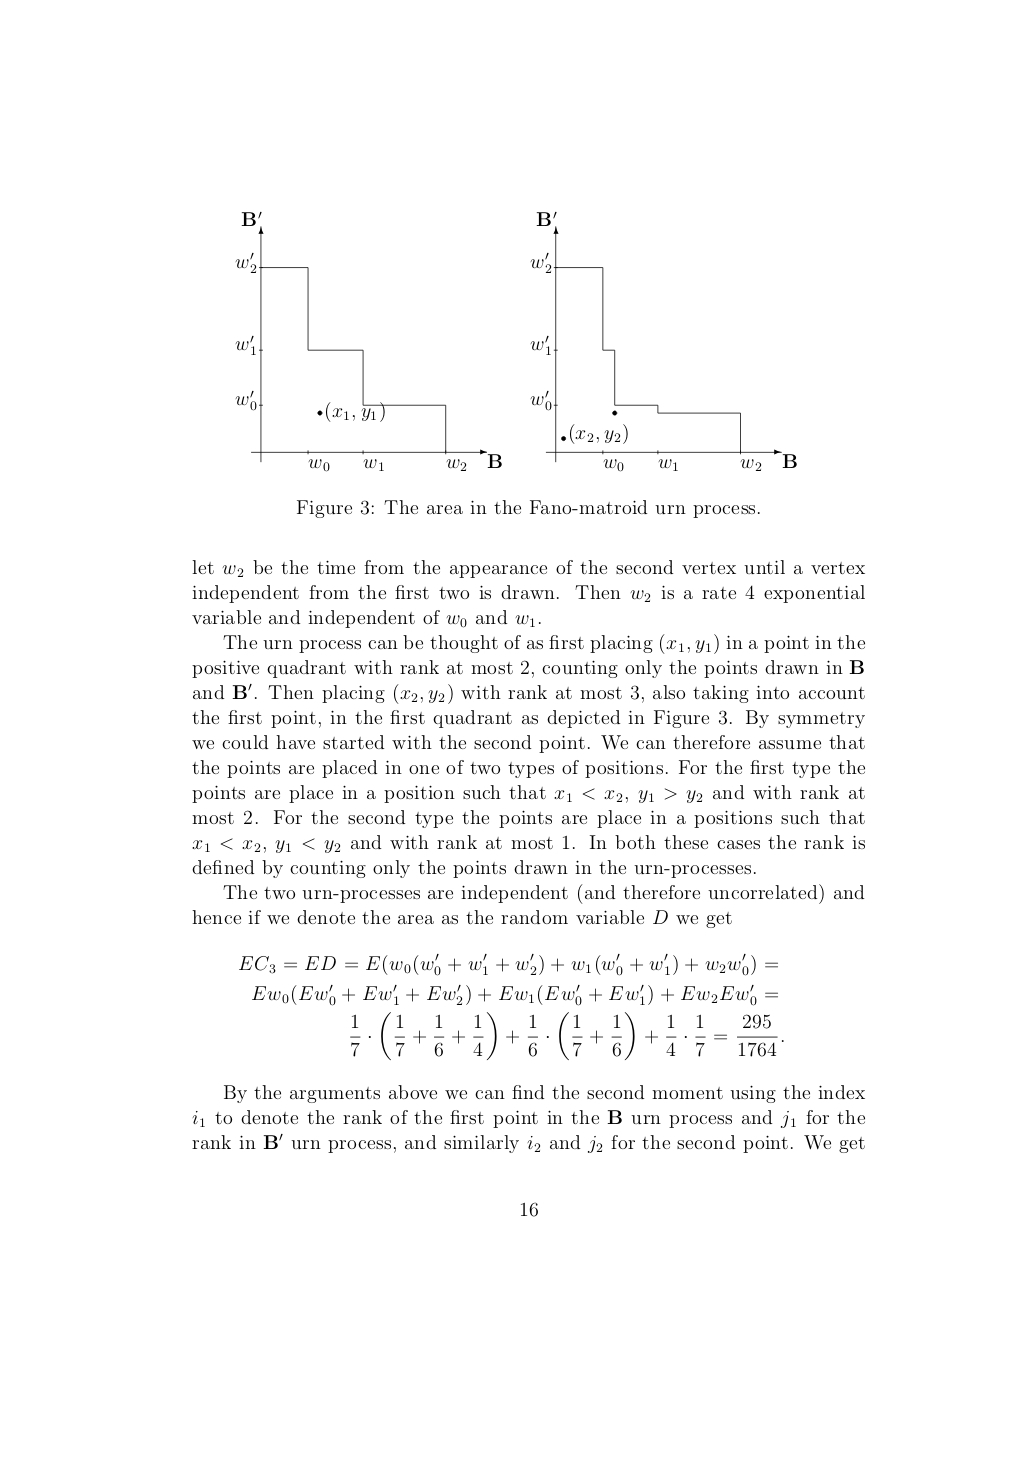figure: (235, 210, 501, 472), (531, 210, 796, 472)
formula: (350, 1011, 783, 1060), (239, 952, 777, 976), (252, 983, 777, 1006)
